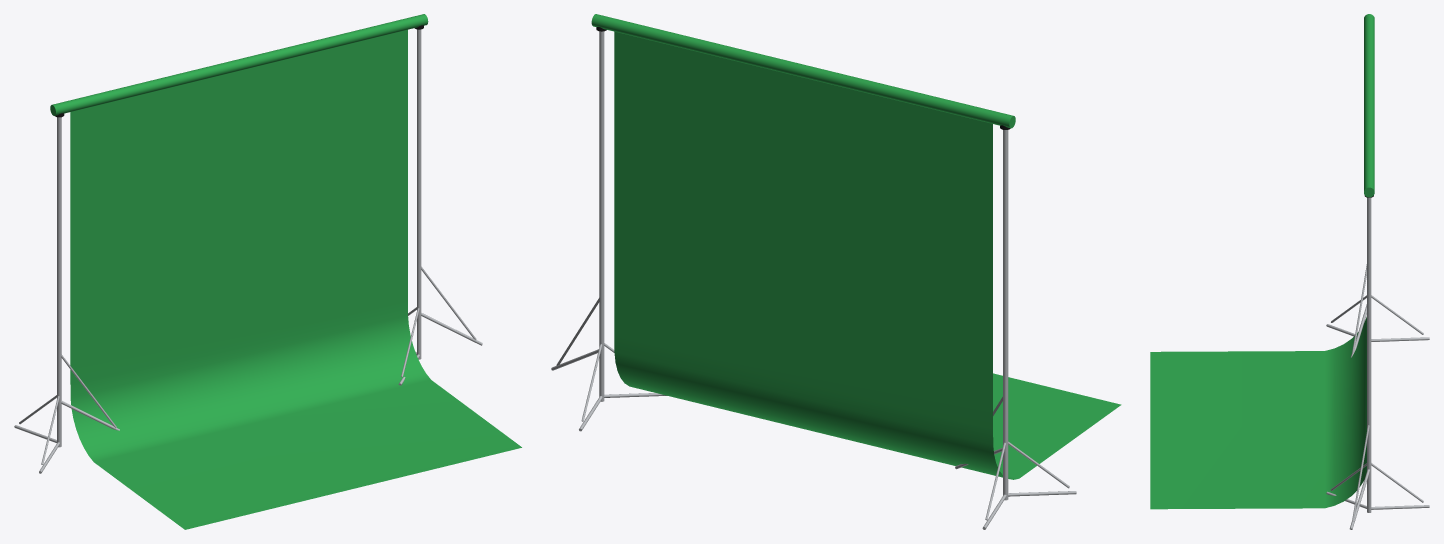
The model's file is fondale-verde.glb.
3 renders of one model, left to right at view 1: azimuth 30°, elevation 25°; view 2: azimuth 150°, elevation 25°; view 3: azimuth 270°, elevation 25°, orthographic. The views are drawn at different scales.
Bounding box in the file's own units: 3.67 × 2.66 × 2.04.
